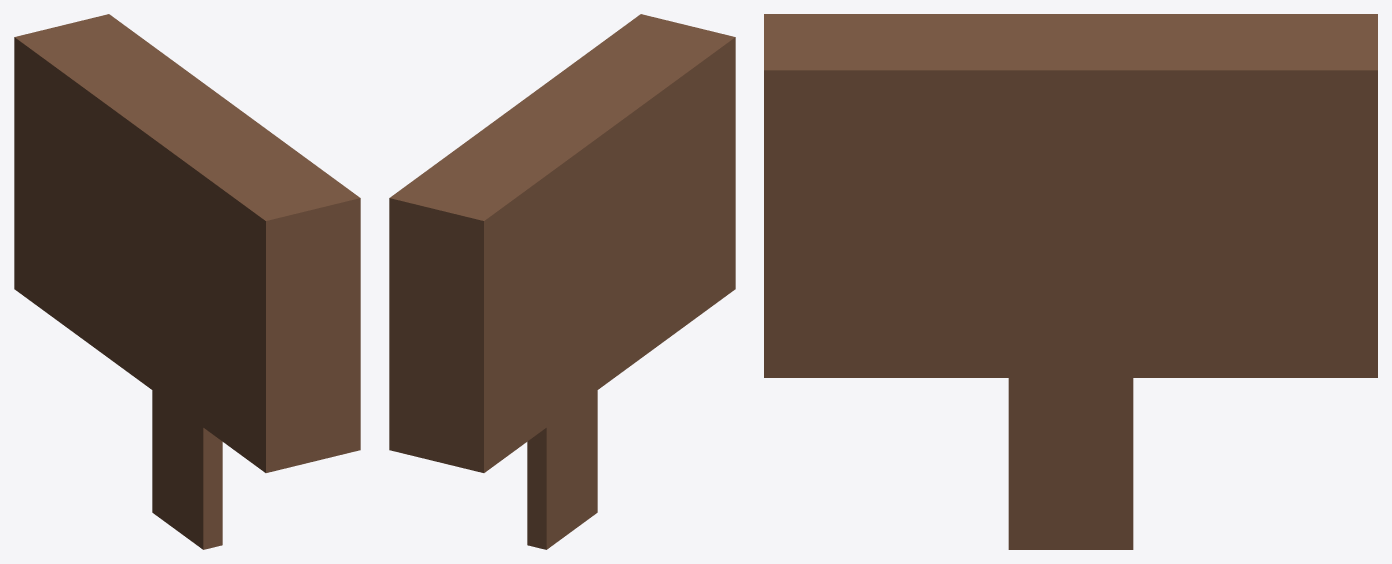
The model's file is Sign.fbx.
3 renders of one model, left to right at view 1: azimuth 30°, elevation 25°; view 2: azimuth 150°, elevation 25°; view 3: azimuth 270°, elevation 25°, orthographic. The views are drawn at different scales.
Visible parts, largest first — view 1: Cube; view 2: Cube; view 3: Cube.
Part boxes in pixels (<box>): Cube: <box>14,14,360,549</box>; Cube: <box>389,14,735,549</box>; Cube: <box>764,14,1377,549</box>.
Size of the model in its own units: 200 by 830 by 920.
